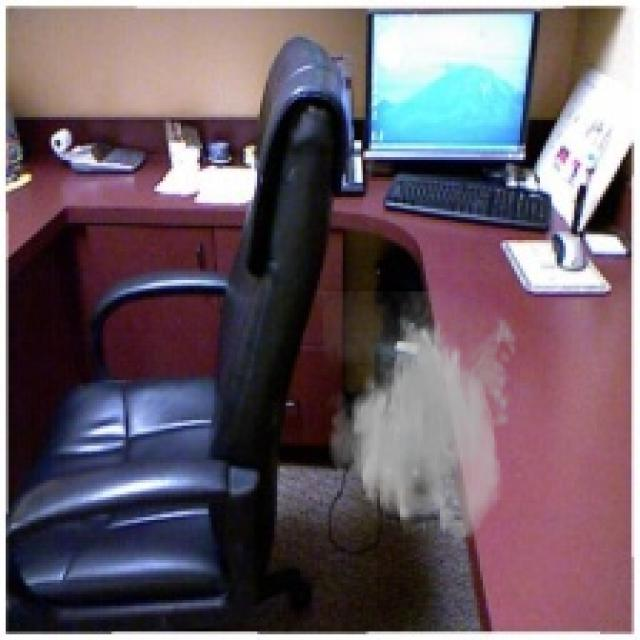smoke: (323, 291, 523, 546)
